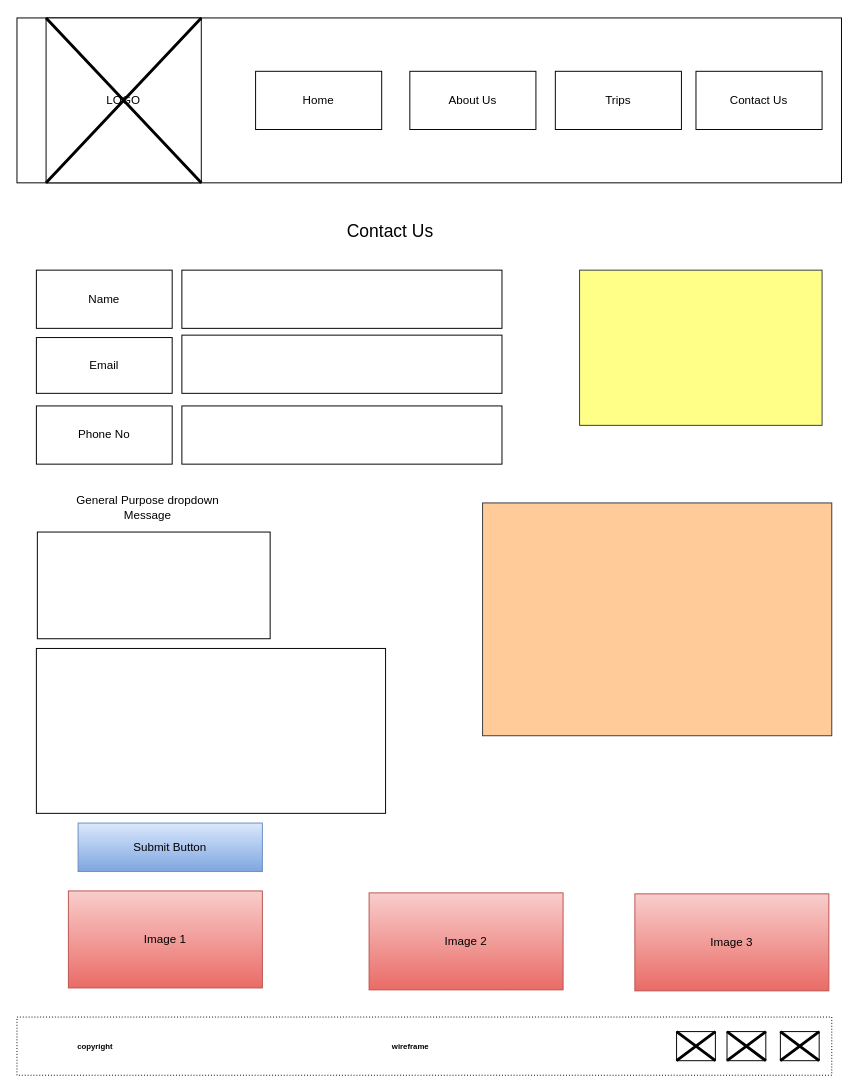
Image size: 858x1092. Some labels were removed from this diagram. The centre of each missing label's shape, as x and y in pixels:
"Company Information Address Phone number(s) Email" goes at (700,347).
"General Inquiry Reservation Question Website Suggestion" goes at (153,585).
"Goodle Map" goes at (657,619).
"Message" goes at (210,730).
